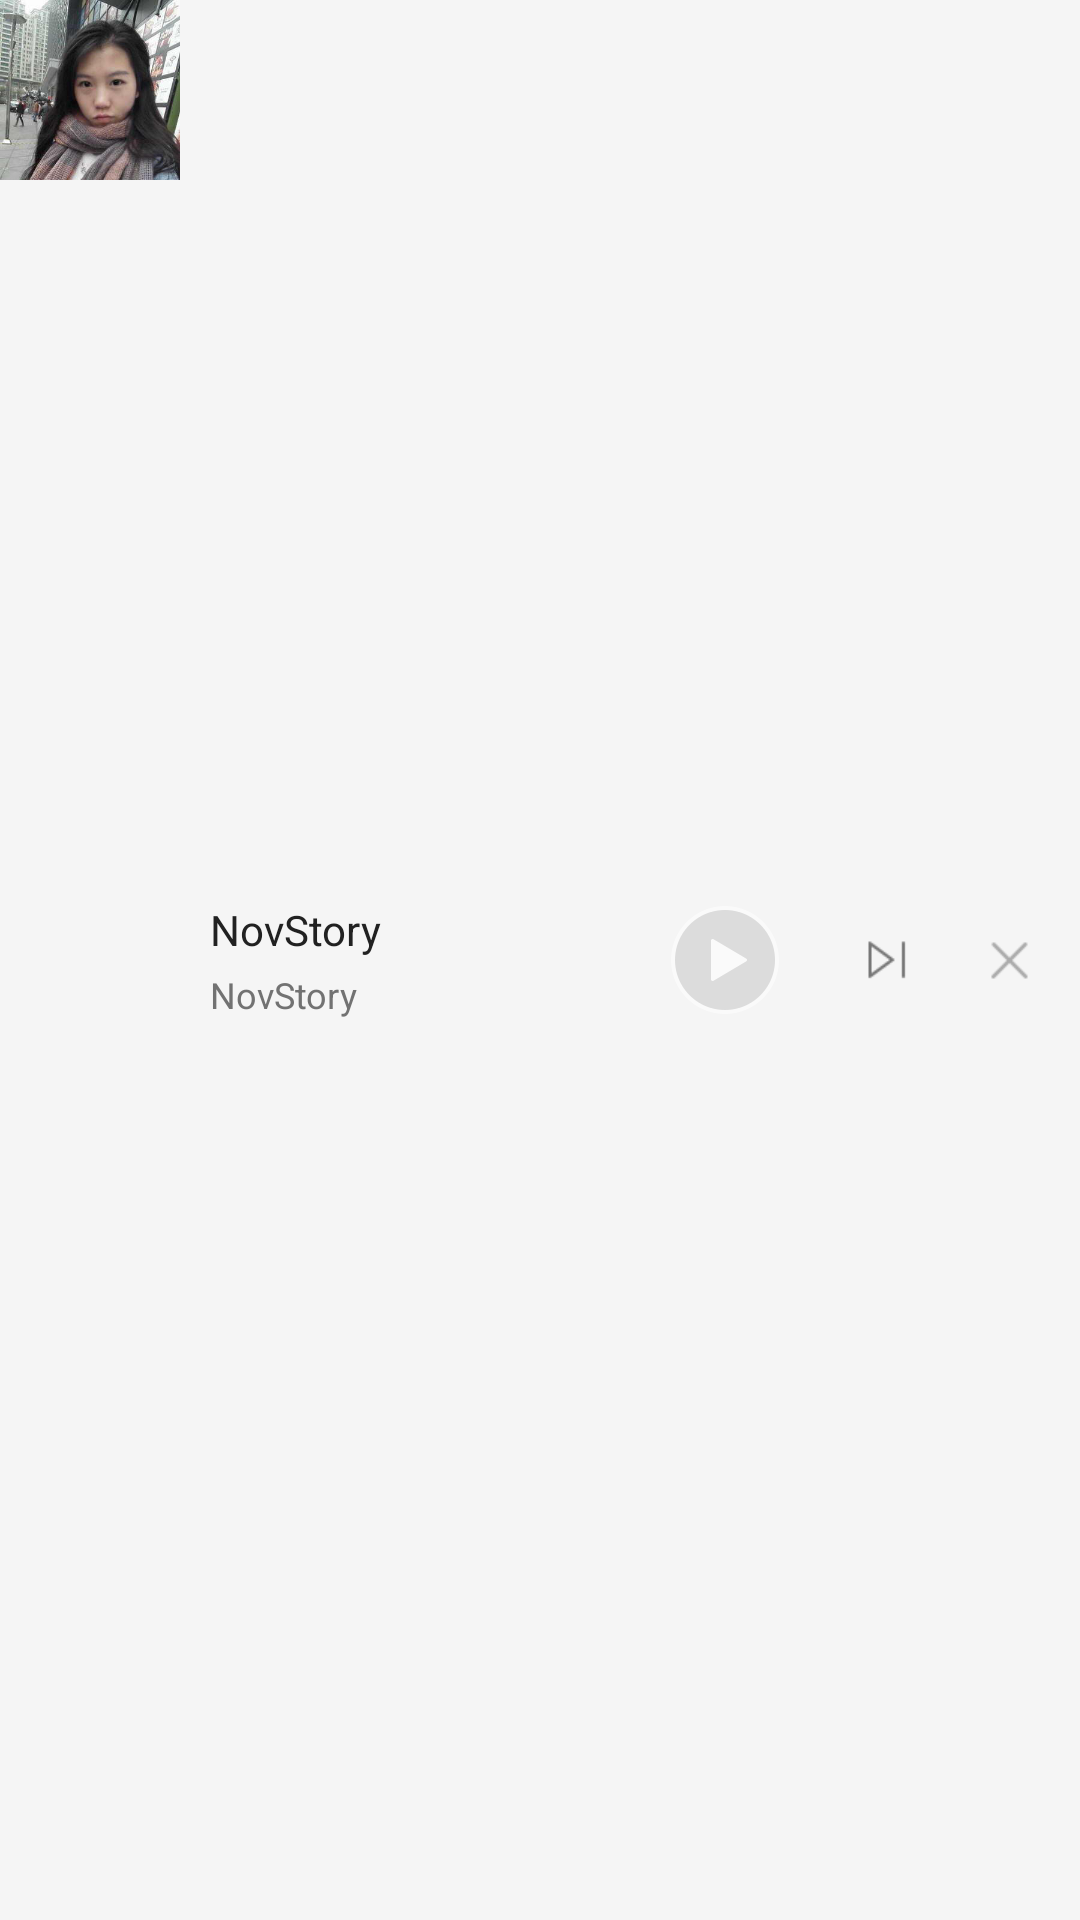

Screen size 1080 × 1920. Icon name, then its center in pixels as (x,y):
note next: (886,959)
play notify close: (1009,960)
play prs: (725,960)
